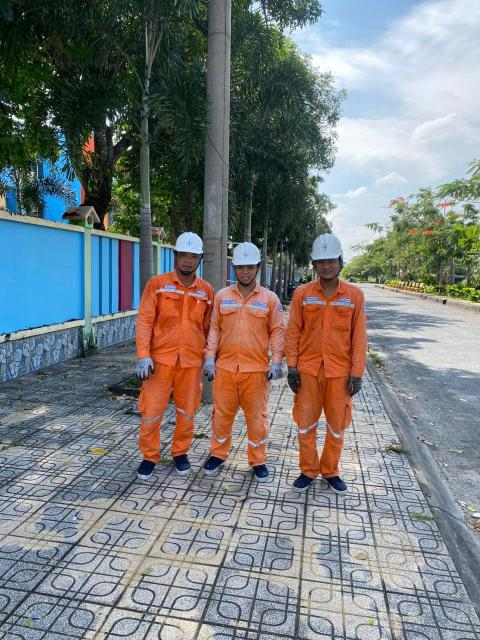gloves: (128, 354, 162, 381), (345, 371, 371, 397), (285, 363, 304, 394), (262, 357, 283, 383), (201, 352, 218, 381)
helmet: (222, 238, 270, 273), (308, 231, 349, 267), (167, 229, 210, 261)
shoes: (134, 448, 160, 483), (243, 461, 275, 485), (325, 471, 353, 497), (201, 449, 226, 478), (287, 468, 313, 494), (167, 451, 194, 476)
